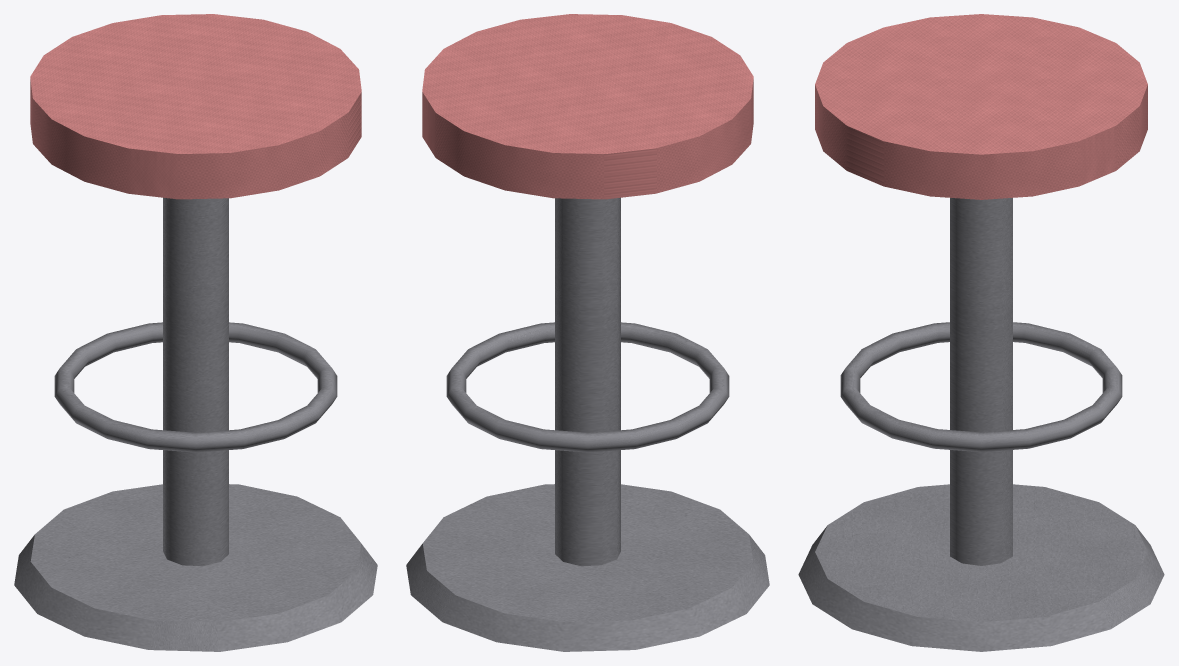
Rendered from stool.glb.
3 renders of one model, left to right at view 1: azimuth 30°, elevation 25°; view 2: azimuth 150°, elevation 25°; view 3: azimuth 270°, elevation 25°, orthographic.
Visible parts, largest first — view 1: stool_body; view 2: stool_body; view 3: stool_body.
Part boxes in pixels (x1,y1,x2,y2): stool_body: [14, 14, 377, 651]; stool_body: [406, 14, 769, 651]; stool_body: [798, 14, 1164, 651].
Bounding box in the file's own units: 0.44 × 0.65 × 0.44.
2 materials, 2 textured.
